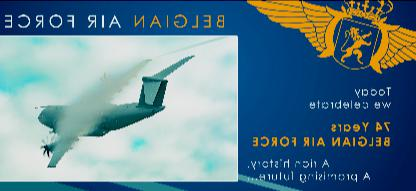A400M: (36, 54, 197, 168)
